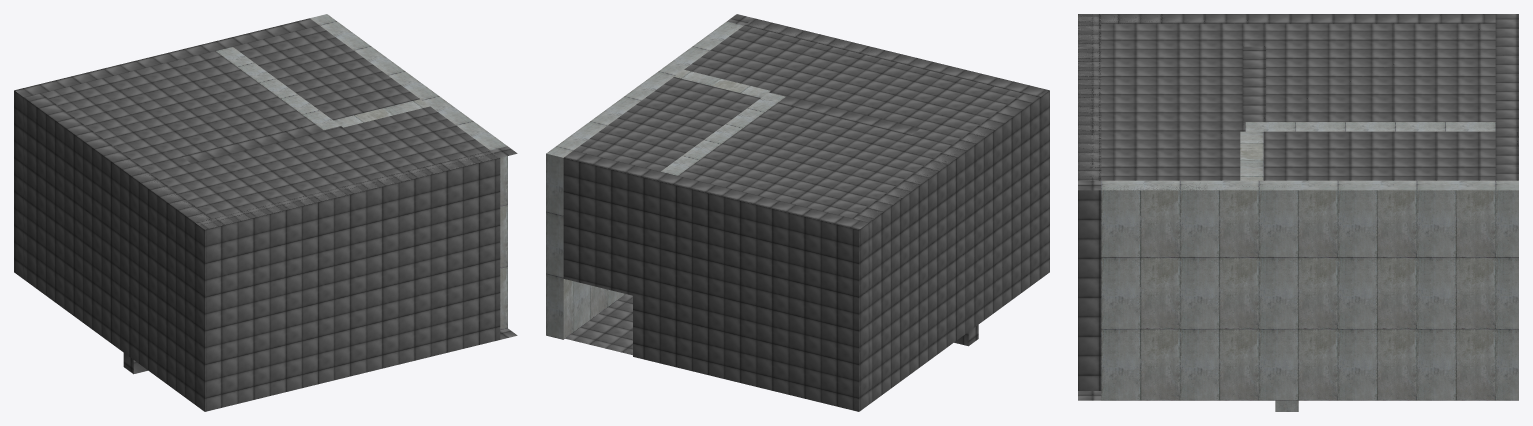
The model's file is Level_29.fbx.
3 renders of one model, left to right at view 1: azimuth 30°, elevation 25°; view 2: azimuth 150°, elevation 25°; view 3: azimuth 270°, elevation 25°, orthographic. The views are drawn at different scales.
Parts seen in each view (by area): view 1: NoTeleport.018, Wall.019; view 2: NoTeleport.018, Wall.019; view 3: Wall.019, NoTeleport.018.
Boxes of the visible parts, x1,y1,x2,y2 form: NoTeleport.018: (14, 18, 517, 411); Wall.019: (216, 14, 507, 329); NoTeleport.018: (563, 14, 1049, 411); Wall.019: (546, 21, 785, 339); Wall.019: (1101, 122, 1518, 411); NoTeleport.018: (1078, 14, 1518, 400).
Size of the model in its own units: 18 by 19 by 11.
